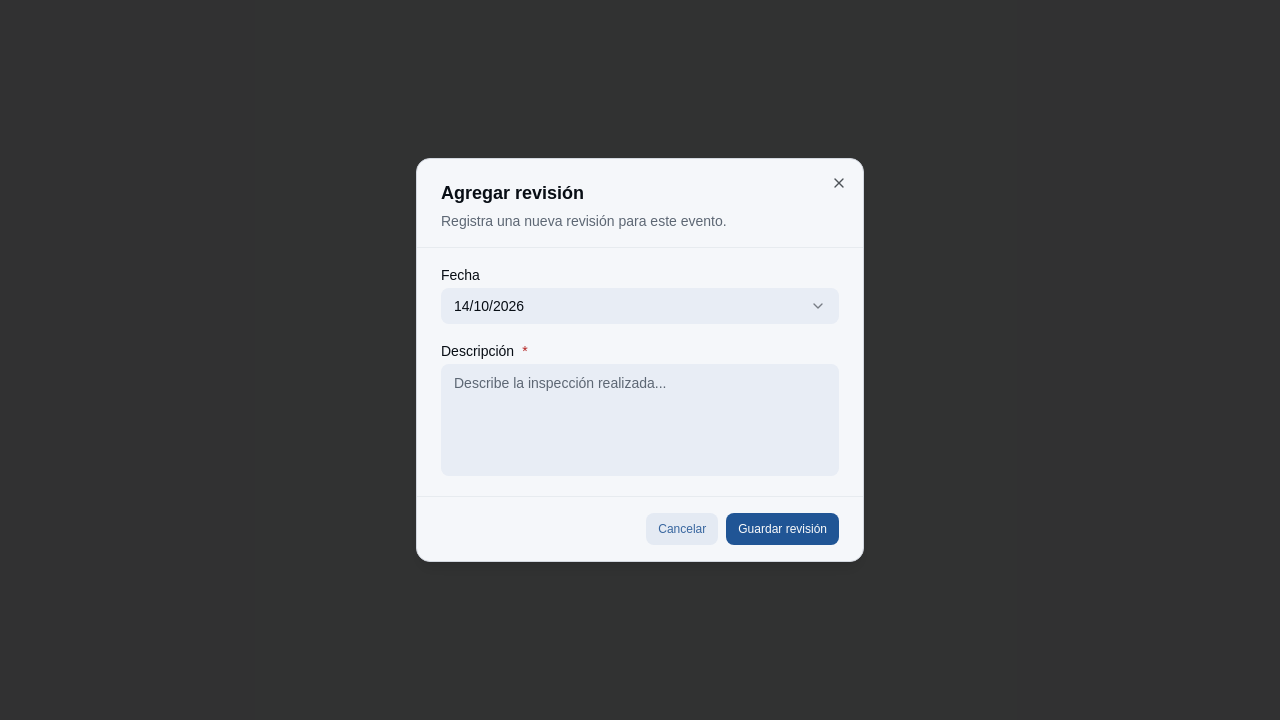
it: AddRevisionSheet › still refuses to send an empty description
This screenshot has width=1280, height=720.
Click the button "Guardar revisión" at (783, 529), box [726, 513, 839, 545]
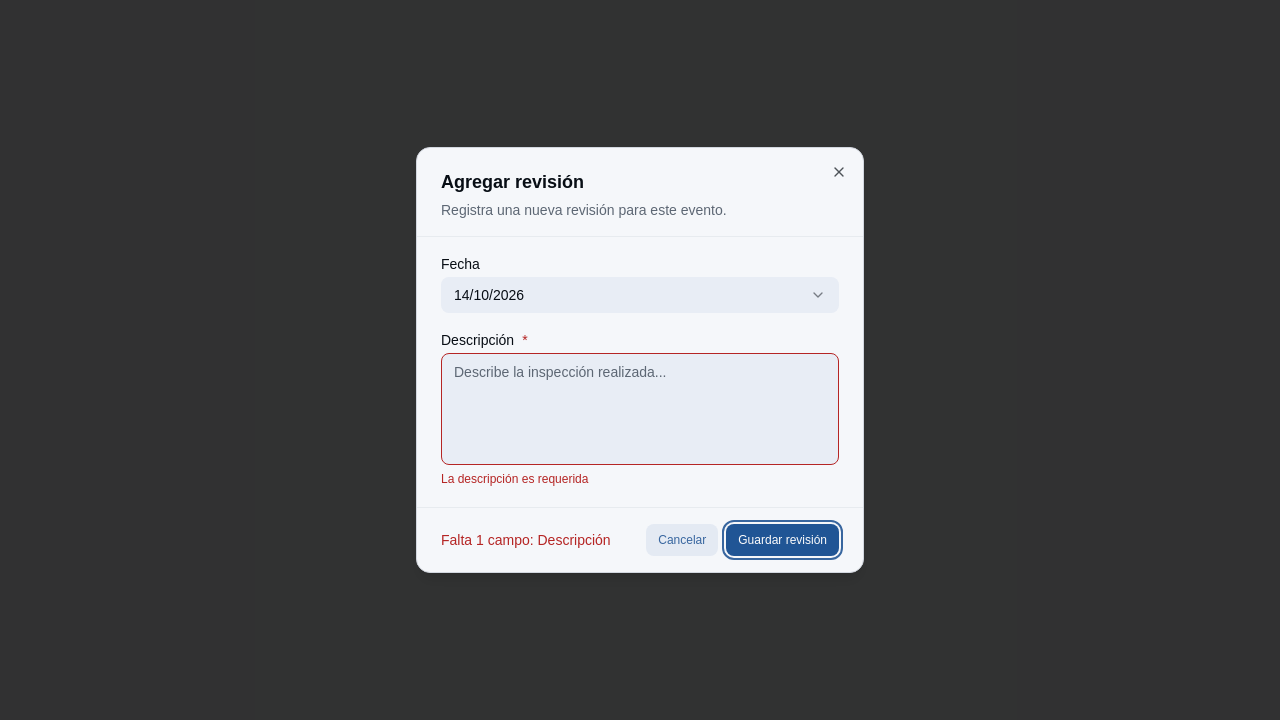
Now the text "La descripción es requerida" is shown, box [441, 472, 588, 486]
